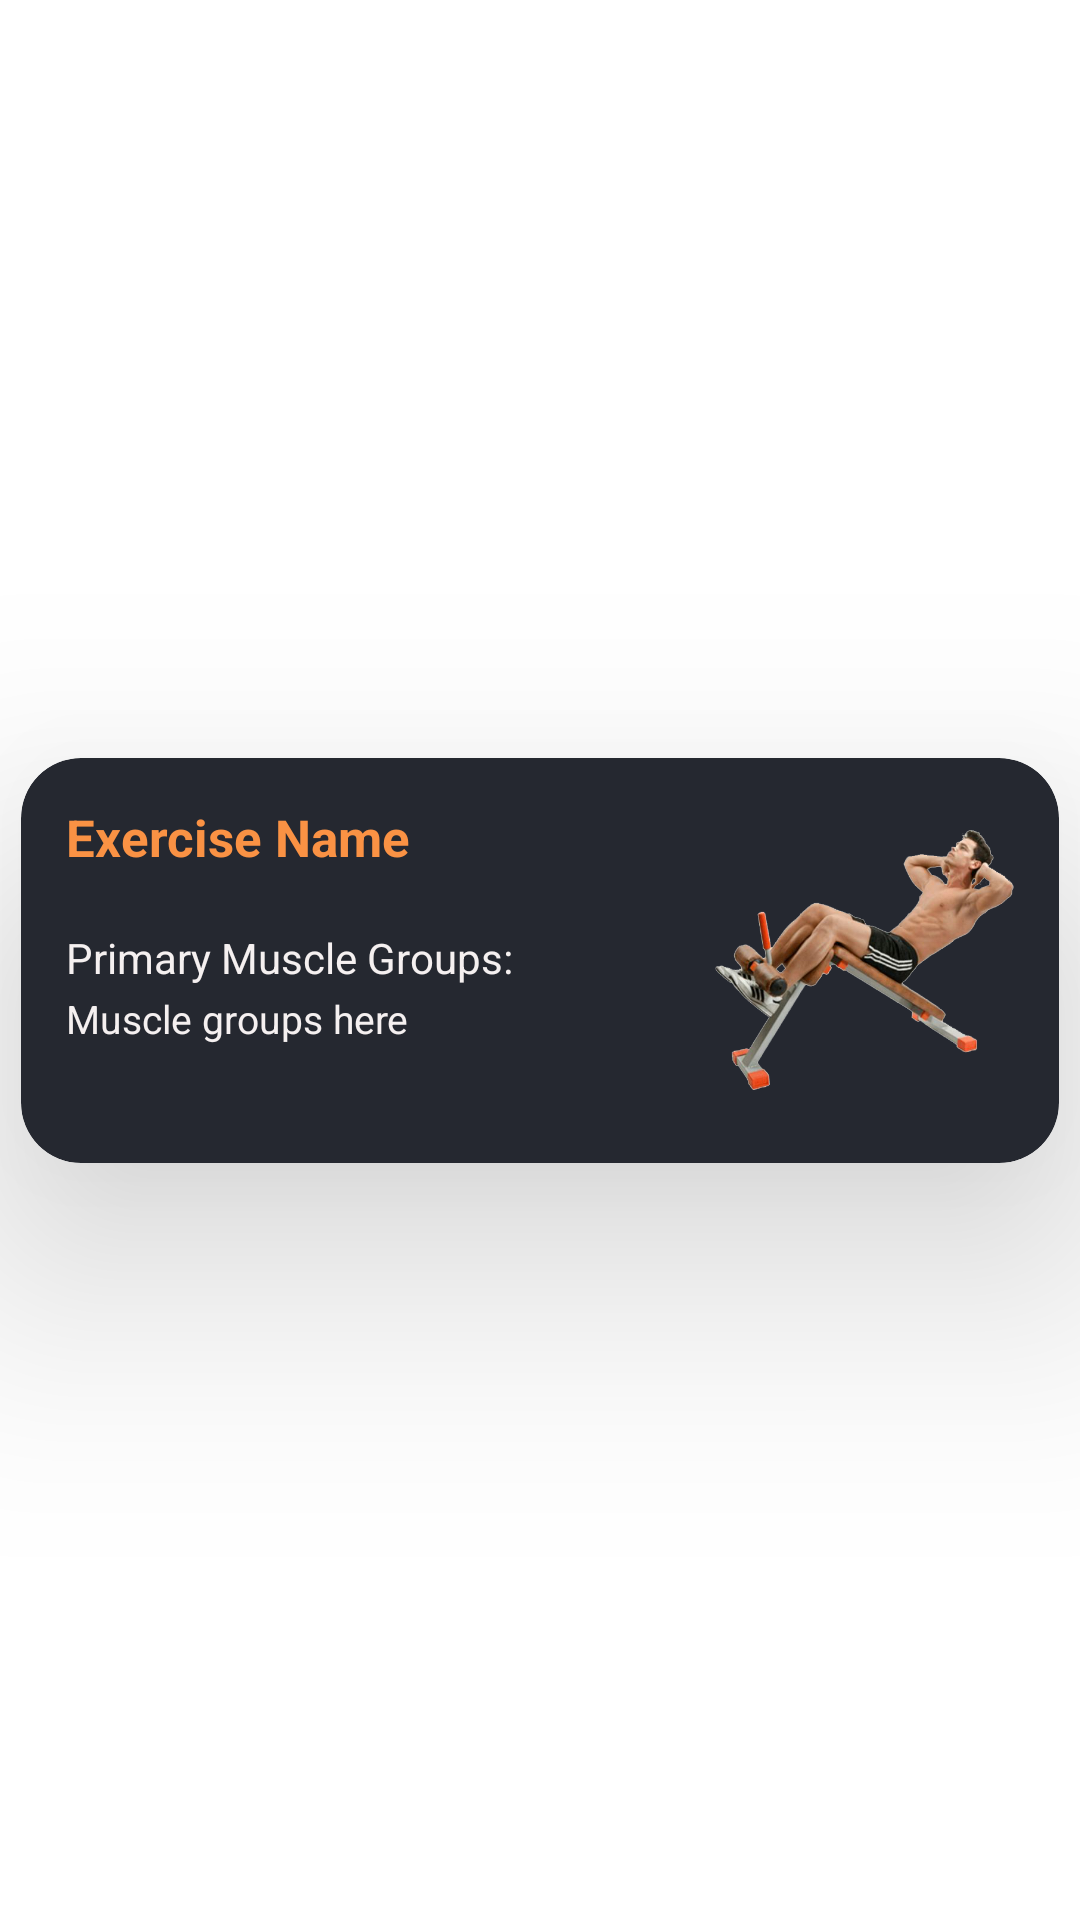

Named icons in this screenshot (1080px×1920px) and their bounding boxes, (x1, y1, x2, y2):
inclinebenchsitup: (715, 830, 1014, 1090)
